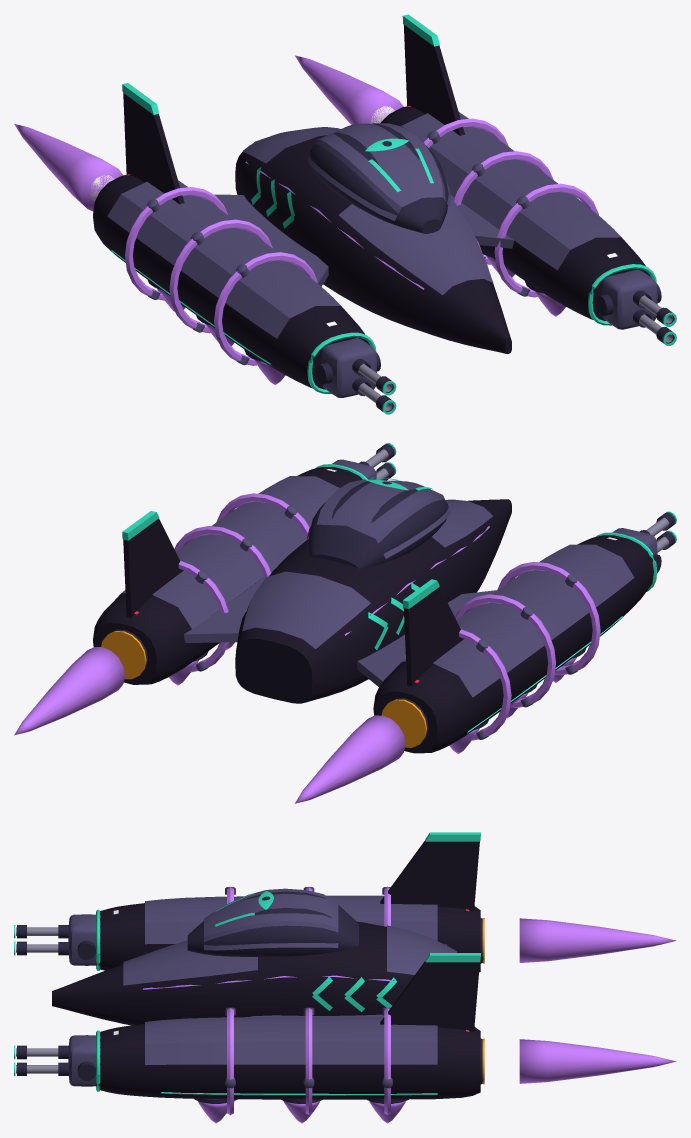
File: skimmer_b.glb
3 views of the same model, one above another, from view 1: azimuth 30°, elevation 25°; view 2: azimuth 150°, elevation 25°; view 3: azimuth 270°, elevation 25° (orthographic). The views are drawn at different scales.
Parts seen in each view (by area): view 1: fuselage, nacCapL, nacCapR, nacelleL, spine1, bridgeCollar, nacelleR, bridge, finL, finR, plumeL_flame, plumeR_flame (+13 smaller); view 2: fuselage, nacCapL, nacelleL, nacCapR, spine0, nacelleR, bridge, bridgeCollar, plumeL_flame, plumeR_flame, finL, finR (+11 smaller); view 3: fuselage, nacelleR, nacCapR, nacCapL, finL, finR, bridgeCollar, bridge, nacelleL, plumeL_flame, plumeR_flame, spine1 (+9 smaller).
Boxes of the visible parts, x1=… form: fuselage: x1=235, y1=135, x2=511, y2=353; nacCapL: x1=107, y1=180, x2=352, y2=338; nacCapR: x1=401, y1=112, x2=633, y2=270; nacelleL: x1=93, y1=174, x2=370, y2=389; spine1: x1=339, y1=198, x2=493, y2=295; bridgeCollar: x1=307, y1=123, x2=451, y2=220; nacelleR: x1=380, y1=106, x2=650, y2=320; bridge: x1=309, y1=123, x2=448, y2=233; finL: x1=123, y1=93, x2=184, y2=204; finR: x1=403, y1=24, x2=464, y2=135; plumeL_flame: x1=14, y1=124, x2=123, y2=211; plumeR_flame: x1=295, y1=55, x2=403, y2=124; fuselage: x1=235, y1=499, x2=511, y2=703; nacCapL: x1=396, y1=544, x2=634, y2=697; nacelleL: x1=373, y1=535, x2=653, y2=753; nacCapR: x1=115, y1=476, x2=339, y2=628; spine0: x1=242, y1=571, x2=370, y2=648; nacelleR: x1=93, y1=467, x2=362, y2=684; bridge: x1=308, y1=481, x2=448, y2=568; bridgeCollar: x1=306, y1=479, x2=450, y2=558; plumeL_flame: x1=295, y1=715, x2=405, y2=803; plumeR_flame: x1=14, y1=647, x2=124, y2=735; finL: x1=403, y1=587, x2=463, y2=686; finR: x1=123, y1=518, x2=183, y2=617; fuselage: x1=52, y1=921, x2=414, y2=1025; nacelleR: x1=98, y1=1024, x2=480, y2=1099; nacCapR: x1=145, y1=1016, x2=437, y2=1064; nacCapL: x1=145, y1=895, x2=437, y2=944; finL: x1=380, y1=840, x2=479, y2=911; finR: x1=380, y1=961, x2=479, y2=1032; bridgeCollar: x1=204, y1=888, x2=338, y2=950; bridge: x1=187, y1=891, x2=358, y2=957; nacelleL: x1=98, y1=903, x2=480, y2=972; plumeL_flame: x1=519, y1=918, x2=676, y2=962; plumeR_flame: x1=519, y1=1039, x2=676, y2=1083; spine1: x1=123, y1=940, x2=257, y2=985.
Bounding box in the file's own units: 5.51 × 2.62 × 9.28.
